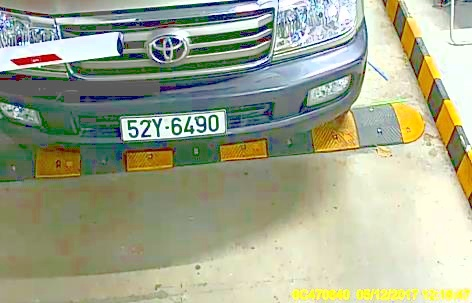plate: (119, 112, 231, 142)
